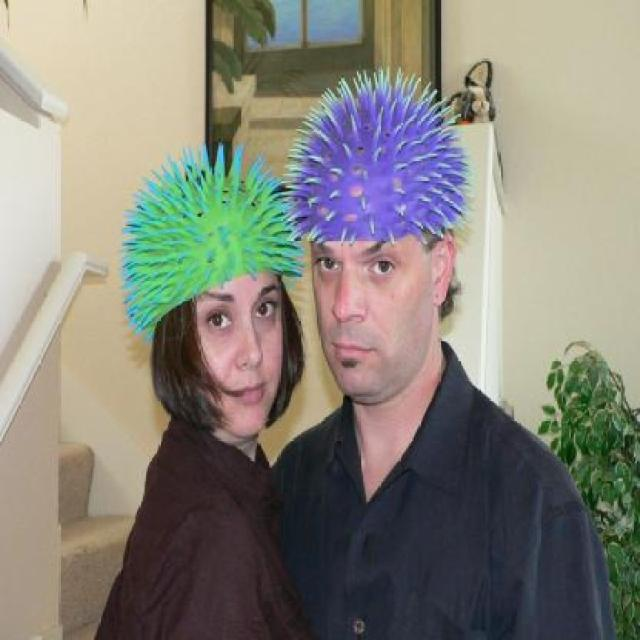stair: (57, 441, 134, 640)
